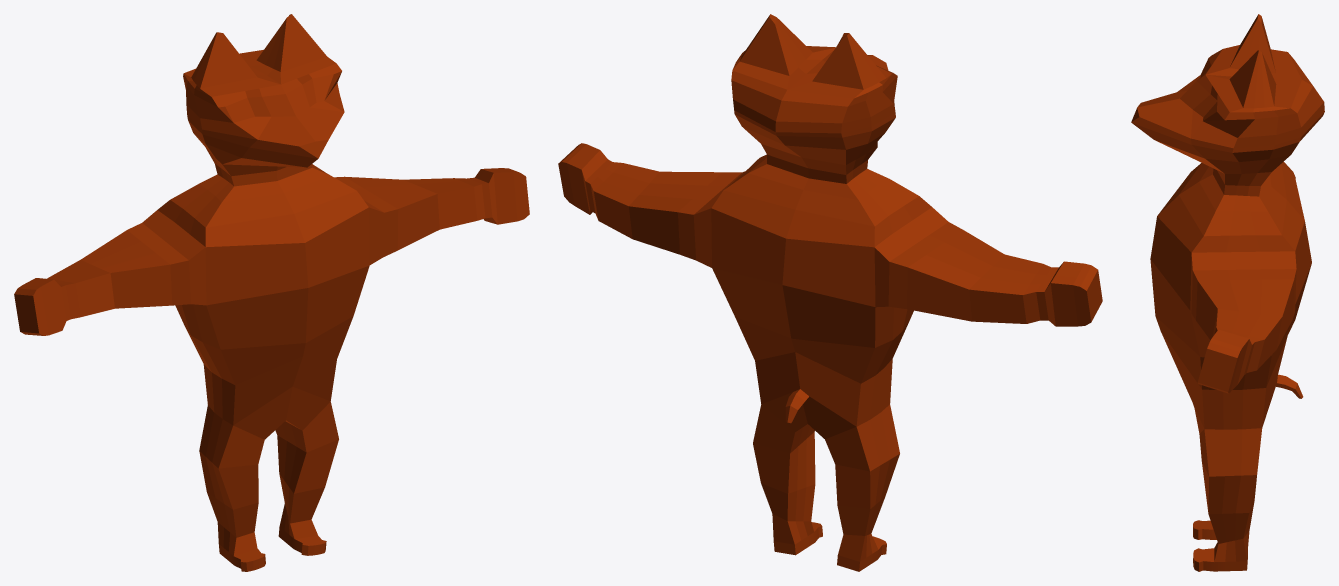
Rendered from Cat.FBX.
3 views of the same model, side by side, from view 1: azimuth 30°, elevation 25°; view 2: azimuth 150°, elevation 25°; view 3: azimuth 270°, elevation 25° (orthographic). The views are drawn at different scales.
Parts seen in each view (by area): view 1: Box001; view 2: Box001; view 3: Box001.
Part boxes in pixels (x1=…): Box001: x1=14, y1=14, x2=529, y2=571; Box001: x1=558, y1=14, x2=1102, y2=571; Box001: x1=1131, y1=14, x2=1324, y2=571.
Size of the model in its own units: 58.56 by 57.61 by 19.48.
